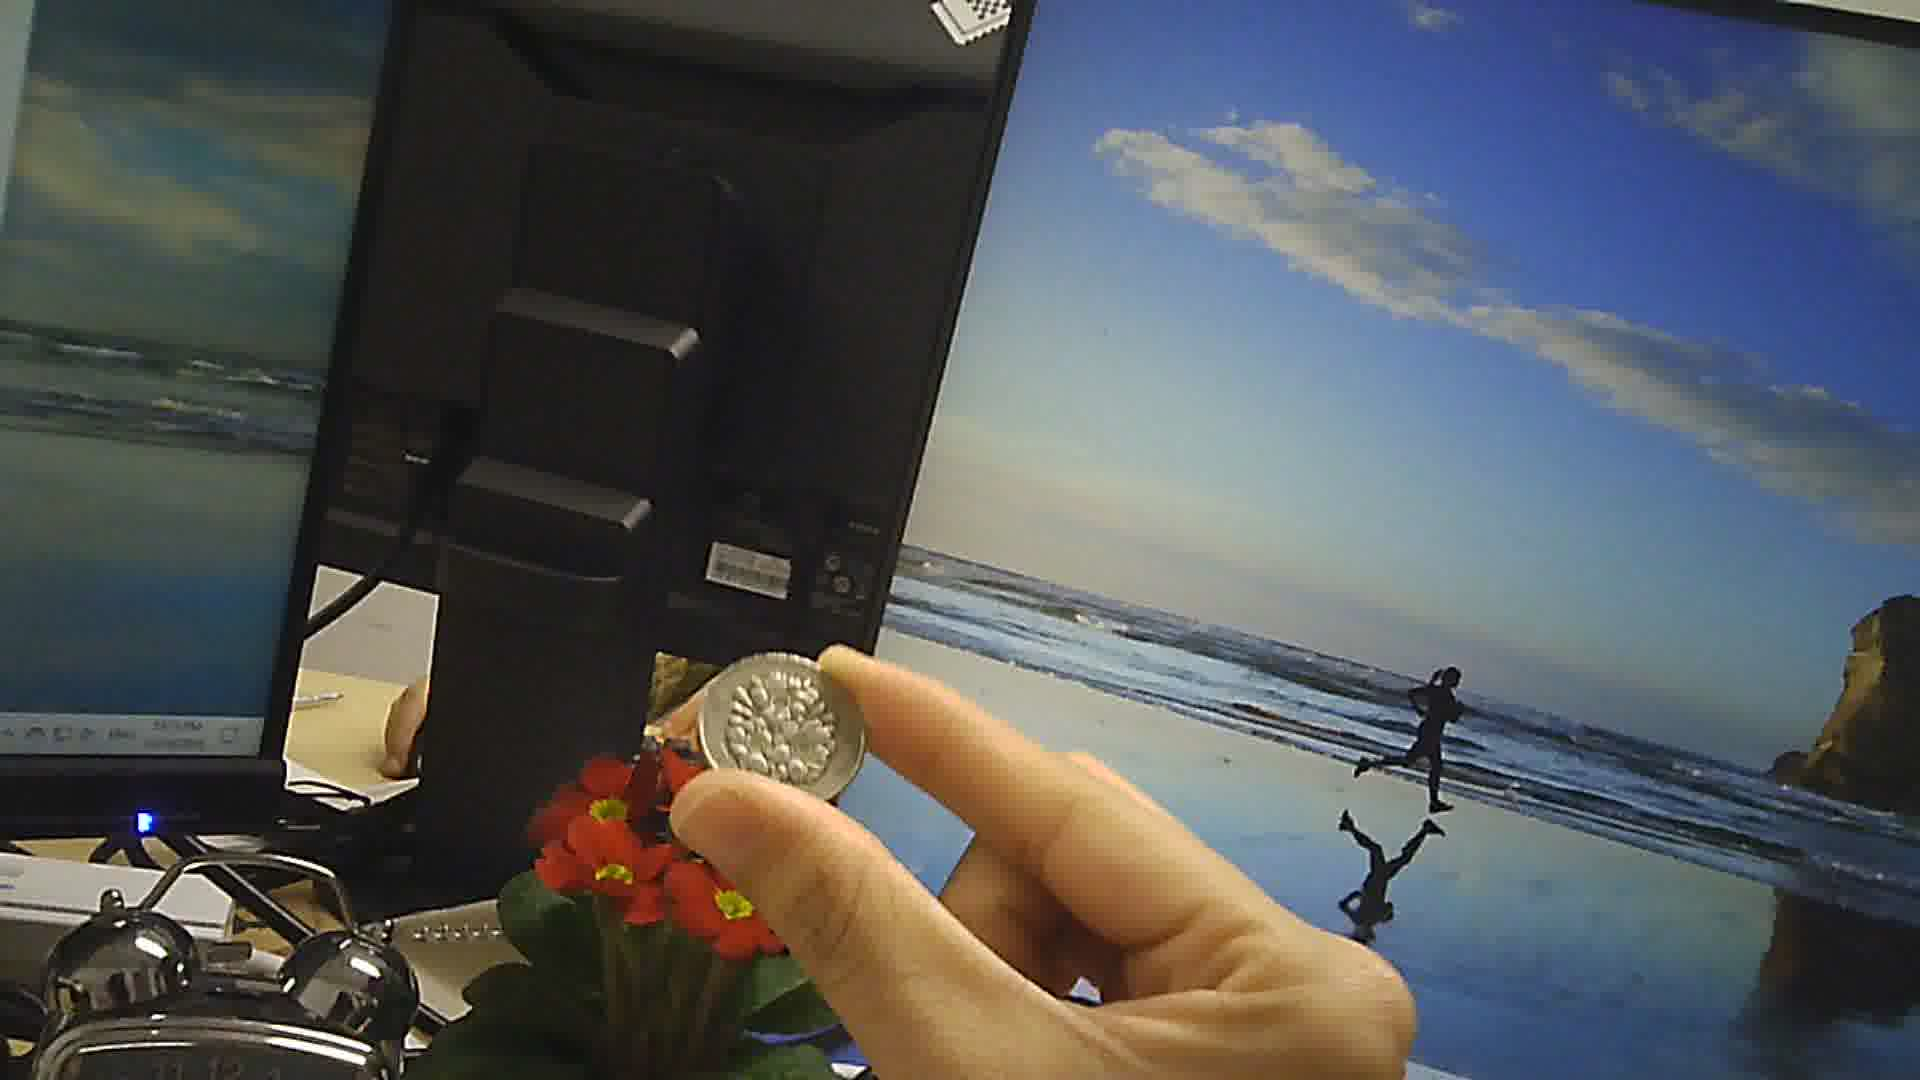100 Yen: (698, 644, 874, 800)
